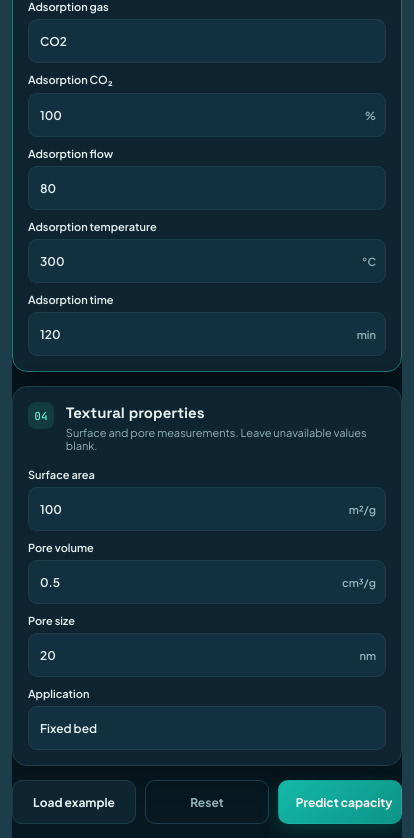
page interactions › converts the displayed prediction interval and SHAP values for mmol/g
The image size is (414, 838).
(page scrolled)
Click the button "Predict capacity": coordinates (340, 802) [278,780,402,824]
(page scrolled)
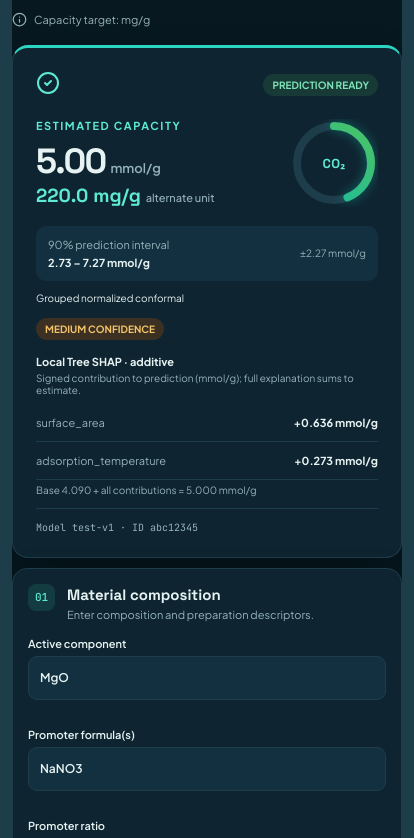
Expected: the text "5.00" is shown, [36,139,105,183]
Expected: the text "2.73 – 7.27 mmol/g" is shown, [48,256,150,269]
Expected: the text "+0.636 mmol/g" is shown, [294,416,378,429]
